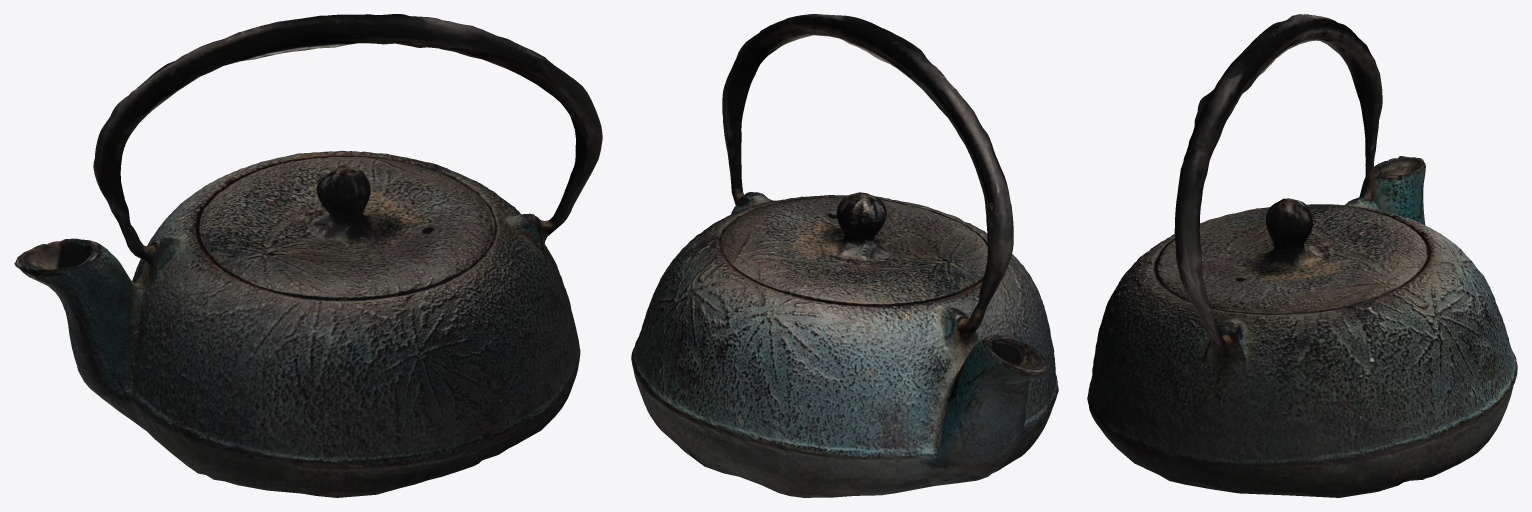
File: Cast Iron Teapot .glb
3 views of the same model, side by side, from view 1: azimuth 30°, elevation 25°; view 2: azimuth 150°, elevation 25°; view 3: azimuth 270°, elevation 25° (orthographic). The views are drawn at different scales.
Size of the model in its own units: 0.519 by 0.4445 by 0.4405.
Materials: 1 (1 with a texture image).
